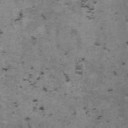oxide scale of temperature system: (22, 56, 85, 128), (94, 41, 128, 93), (14, 12, 46, 40), (80, 0, 98, 20), (82, 106, 102, 120), (2, 66, 8, 72), (0, 28, 4, 36)
